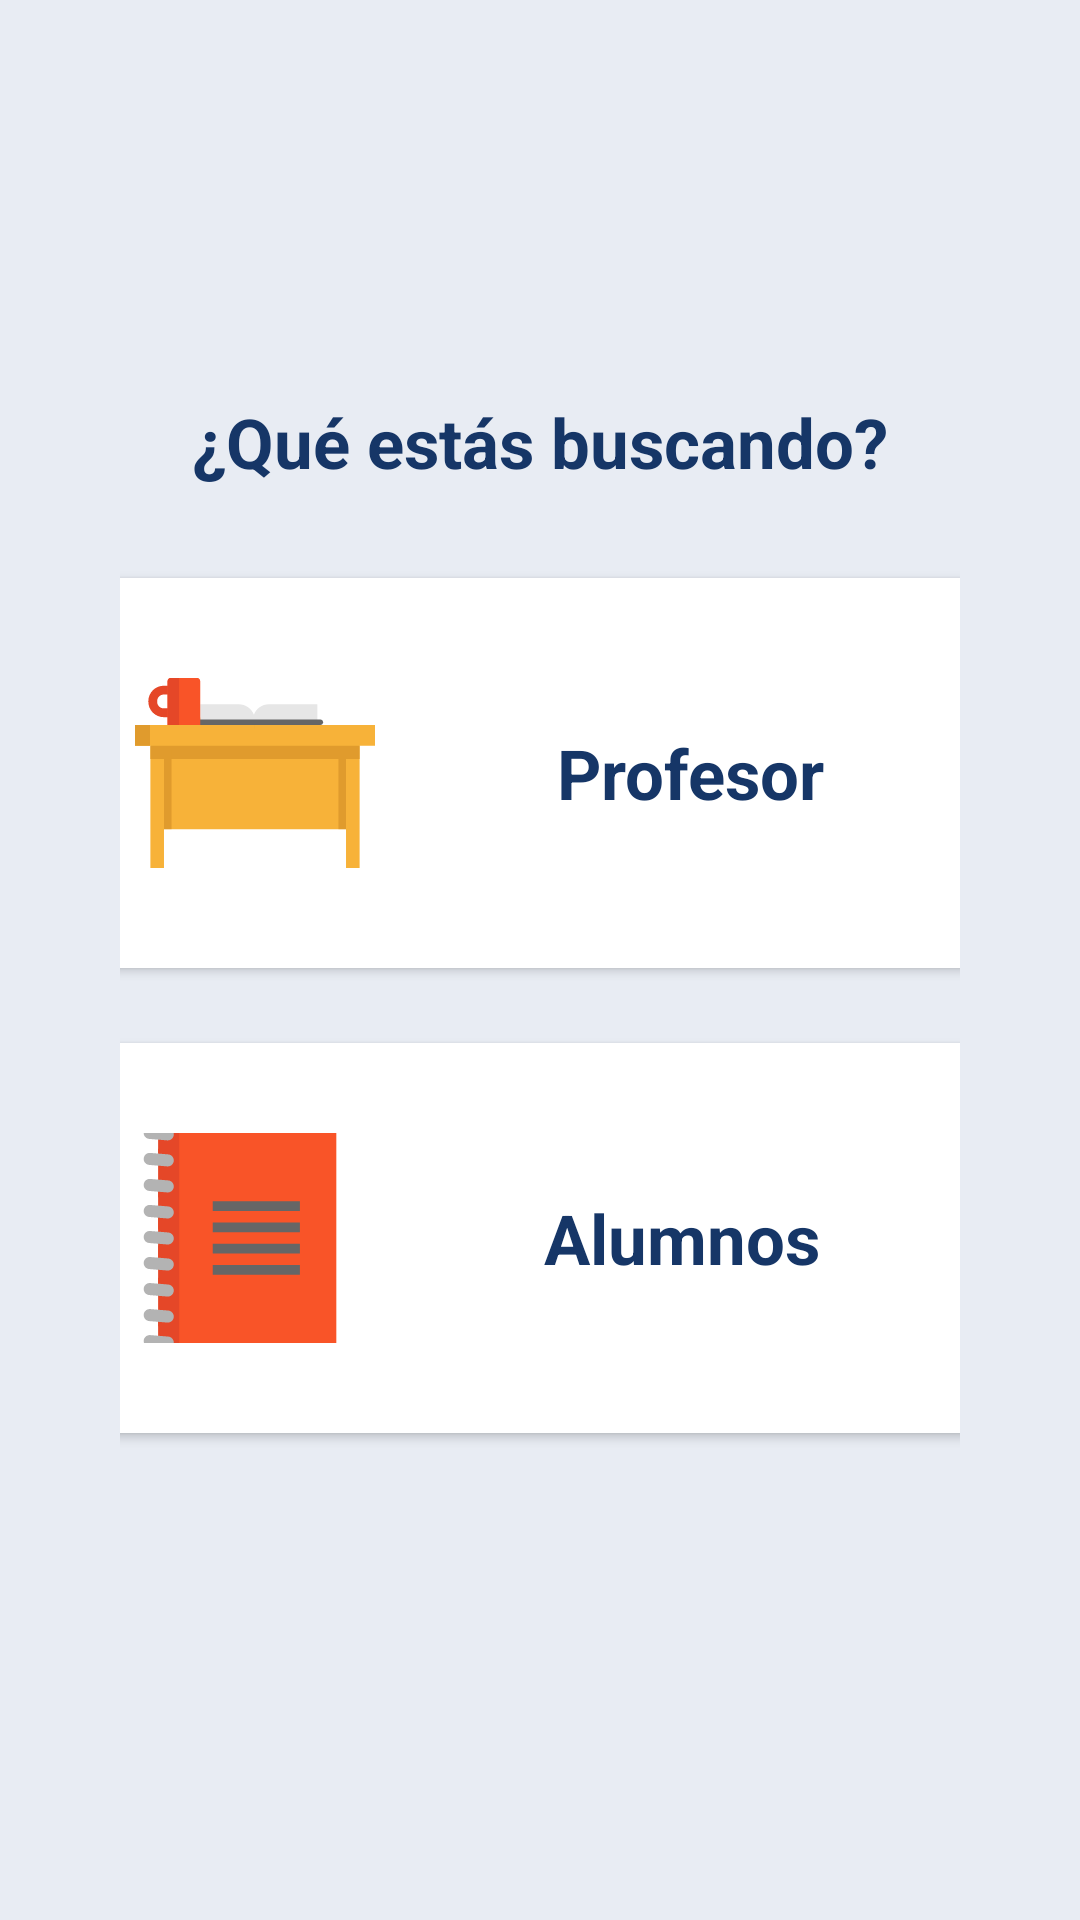

Point at icon controls on the screen. Image size 1080px×1920px, points as (x,y).
student: (240,1238)
teacher: (255,773)
